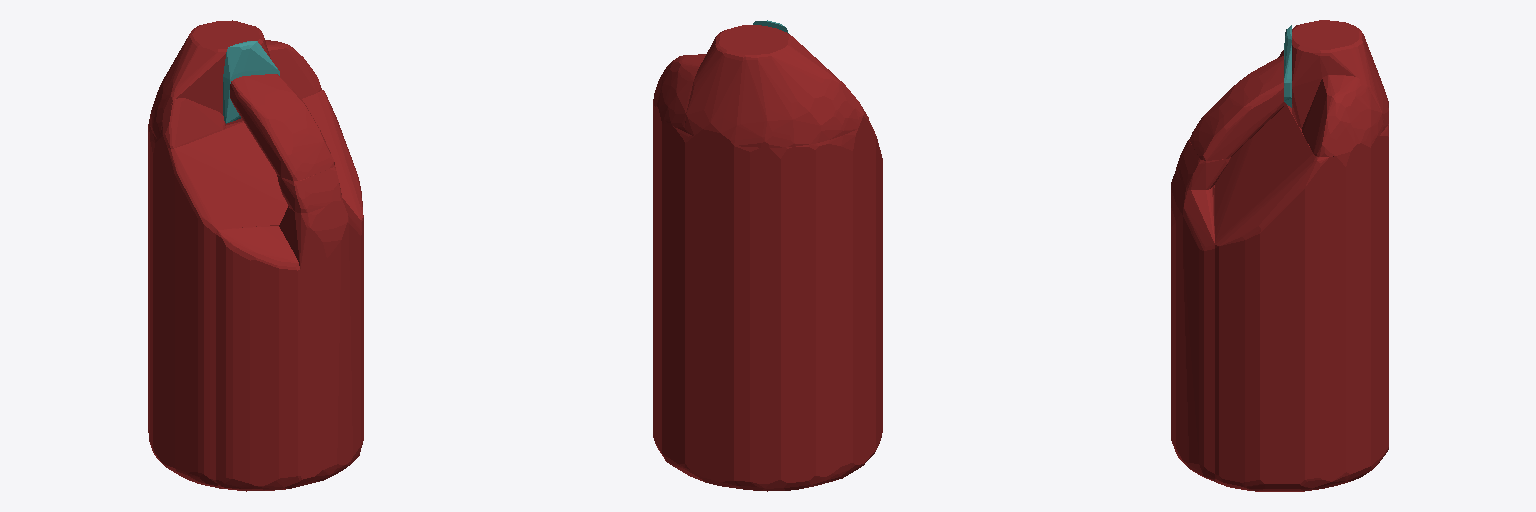
The robot description file, URDF, robot "root":
<robot name="root">
  <link name="bottle_body">
    <inertial>
      <origin xyz="0 0 0" rpy="0 0 0"/>
    </inertial>
    <mass value="1.00E-02"/>
    <visual>
      <origin xyz="0 0 0" rpy="0 0 0"/>
      <geometry>
        <mesh filename="core-bottle-6c56bd467b8e6b7912c4d7e462c15a1a-coacd_convex_piece_0.obj" scale="1.0000E-01 1.0000E-01 1.0000E-01"/>
      </geometry>
      <material name="">
        <color rgba="6.00E-01 2.00E-01 2.00E-01 1"/>
      </material>
    </visual>
    <collision>
      <origin xyz="0 0 0" rpy="0 0 0"/>
      <geometry>
        <mesh filename="core-bottle-6c56bd467b8e6b7912c4d7e462c15a1a-coacd_convex_piece_0.obj" scale="1.0000E-01 1.0000E-01 1.0000E-01"/>
      </geometry>
    </collision>
    <visual>
      <origin xyz="0 0 0" rpy="0 0 0"/>
      <geometry>
        <mesh filename="core-bottle-6c56bd467b8e6b7912c4d7e462c15a1a-coacd_convex_piece_6.obj" scale="1.0000E-01 1.0000E-01 1.0000E-01"/>
      </geometry>
      <material name="">
        <color rgba="6.00E-01 2.00E-01 2.00E-01 1"/>
      </material>
    </visual>
    <collision>
      <origin xyz="0 0 0" rpy="0 0 0"/>
      <geometry>
        <mesh filename="core-bottle-6c56bd467b8e6b7912c4d7e462c15a1a-coacd_convex_piece_6.obj" scale="1.0000E-01 1.0000E-01 1.0000E-01"/>
      </geometry>
    </collision>
    <visual>
      <origin xyz="0 0 0" rpy="0 0 0"/>
      <geometry>
        <mesh filename="core-bottle-6c56bd467b8e6b7912c4d7e462c15a1a-coacd_convex_piece_2.obj" scale="1.0000E-01 1.0000E-01 1.0000E-01"/>
      </geometry>
      <material name="">
        <color rgba="6.00E-01 2.00E-01 2.00E-01 1"/>
      </material>
    </visual>
    <collision>
      <origin xyz="0 0 0" rpy="0 0 0"/>
      <geometry>
        <mesh filename="core-bottle-6c56bd467b8e6b7912c4d7e462c15a1a-coacd_convex_piece_2.obj" scale="1.0000E-01 1.0000E-01 1.0000E-01"/>
      </geometry>
    </collision>
    <visual>
      <origin xyz="0 0 0" rpy="0 0 0"/>
      <geometry>
        <mesh filename="core-bottle-6c56bd467b8e6b7912c4d7e462c15a1a-coacd_convex_piece_8.obj" scale="1.0000E-01 1.0000E-01 1.0000E-01"/>
      </geometry>
      <material name="">
        <color rgba="6.00E-01 2.00E-01 2.00E-01 1"/>
      </material>
    </visual>
    <collision>
      <origin xyz="0 0 0" rpy="0 0 0"/>
      <geometry>
        <mesh filename="core-bottle-6c56bd467b8e6b7912c4d7e462c15a1a-coacd_convex_piece_8.obj" scale="1.0000E-01 1.0000E-01 1.0000E-01"/>
      </geometry>
    </collision>
    <visual>
      <origin xyz="0 0 0" rpy="0 0 0"/>
      <geometry>
        <mesh filename="core-bottle-6c56bd467b8e6b7912c4d7e462c15a1a-coacd_convex_piece_7.obj" scale="1.0000E-01 1.0000E-01 1.0000E-01"/>
      </geometry>
      <material name="">
        <color rgba="6.00E-01 2.00E-01 2.00E-01 1"/>
      </material>
    </visual>
    <collision>
      <origin xyz="0 0 0" rpy="0 0 0"/>
      <geometry>
        <mesh filename="core-bottle-6c56bd467b8e6b7912c4d7e462c15a1a-coacd_convex_piece_7.obj" scale="1.0000E-01 1.0000E-01 1.0000E-01"/>
      </geometry>
    </collision>
    <visual>
      <origin xyz="0 0 0" rpy="0 0 0"/>
      <geometry>
        <mesh filename="core-bottle-6c56bd467b8e6b7912c4d7e462c15a1a-coacd_convex_piece_1.obj" scale="1.0000E-01 1.0000E-01 1.0000E-01"/>
      </geometry>
      <material name="">
        <color rgba="6.00E-01 2.00E-01 2.00E-01 1"/>
      </material>
    </visual>
    <collision>
      <origin xyz="0 0 0" rpy="0 0 0"/>
      <geometry>
        <mesh filename="core-bottle-6c56bd467b8e6b7912c4d7e462c15a1a-coacd_convex_piece_1.obj" scale="1.0000E-01 1.0000E-01 1.0000E-01"/>
      </geometry>
    </collision>
    <visual>
      <origin xyz="0 0 0" rpy="0 0 0"/>
      <geometry>
        <mesh filename="core-bottle-6c56bd467b8e6b7912c4d7e462c15a1a-coacd_convex_piece_5.obj" scale="1.0000E-01 1.0000E-01 1.0000E-01"/>
      </geometry>
      <material name="">
        <color rgba="6.00E-01 2.00E-01 2.00E-01 1"/>
      </material>
    </visual>
    <collision>
      <origin xyz="0 0 0" rpy="0 0 0"/>
      <geometry>
        <mesh filename="core-bottle-6c56bd467b8e6b7912c4d7e462c15a1a-coacd_convex_piece_5.obj" scale="1.0000E-01 1.0000E-01 1.0000E-01"/>
      </geometry>
    </collision>
    <visual>
      <origin xyz="0 0 0" rpy="0 0 0"/>
      <geometry>
        <mesh filename="core-bottle-6c56bd467b8e6b7912c4d7e462c15a1a-coacd_convex_piece_4.obj" scale="1.0000E-01 1.0000E-01 1.0000E-01"/>
      </geometry>
      <material name="">
        <color rgba="6.00E-01 2.00E-01 2.00E-01 1"/>
      </material>
    </visual>
    <collision>
      <origin xyz="0 0 0" rpy="0 0 0"/>
      <geometry>
        <mesh filename="core-bottle-6c56bd467b8e6b7912c4d7e462c15a1a-coacd_convex_piece_4.obj" scale="1.0000E-01 1.0000E-01 1.0000E-01"/>
      </geometry>
    </collision>
  </link>
  <link name="bottle_cap">
    <origin xyz="0 0 0.002" rpy="0 0 0"/>
    <mass value="1.00E-02"/>
    <visual>
      <origin xyz="0 0 0.002" rpy="0 0 0"/>
      <geometry>
        <mesh filename="core-bottle-6c56bd467b8e6b7912c4d7e462c15a1a-coacd_convex_piece_3.obj" scale="1.0000E-01 1.0000E-01 1.0000E-01"/>
      </geometry>
      <material name="">
        <color rgba="3.00E-01 6.00E-01 6.00E-01 1"/>
      </material>
    </visual>
    <collision>
      <origin xyz="0 0 0.002" rpy="0 0 0"/>
      <geometry>
        <mesh filename="core-bottle-6c56bd467b8e6b7912c4d7e462c15a1a-coacd_convex_piece_3.obj" scale="1.0000E-01 1.0000E-01 1.0000E-01"/>
      </geometry>
    </collision>
  </link>
  <joint name="bottle_cap_joint" type="revolute">
    <origin xyz="0 0 0" rpy="0 0 0"/>
    <parent link="bottle_body"/>
    <child link="bottle_cap"/>
    <axis xyz="0 0 1"/>
    <limit lower="0.00" upper="6.28"/>
    <dynamics damping="0.05"/>
  </joint>
</robot>

--- Facts derived from the render (not from the file) ---
The picture shows the robot from 3 angles, left to right: view 1: azimuth 30°, elevation 25°; view 2: azimuth 150°, elevation 25°; view 3: azimuth 270°, elevation 25°; orthographic projection.
Model root with 2 links and 1 joints (1 revolute), rooted at bottle_body, posed all joints at 0.
Visible links, largest first — view 1: bottle_body, bottle_cap; view 2: bottle_body; view 3: bottle_body, bottle_cap.
Link boxes in pixels (x1,y1,x2,y2): bottle_body: (148, 20, 363, 491); bottle_cap: (223, 41, 279, 123); bottle_body: (653, 25, 882, 491); bottle_body: (1171, 20, 1388, 491); bottle_cap: (1284, 25, 1291, 107).
Size in the robot's own frame: 0.0865 by 0.0865 by 0.1829 metres.
9 mesh visuals loaded from 9 distinct referenced files (9 OBJ).
